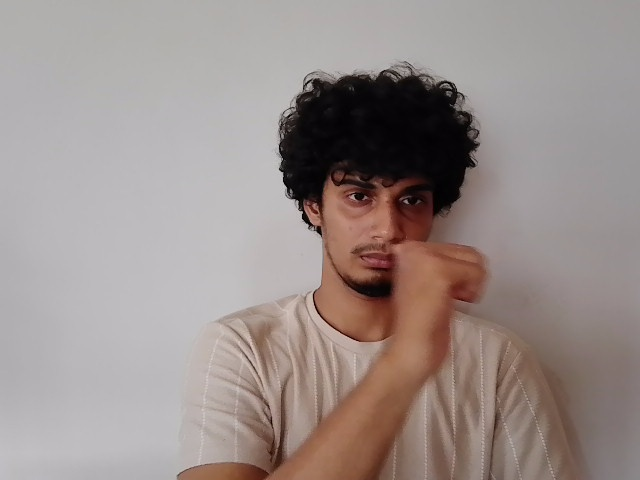how: (382, 241, 495, 366)
